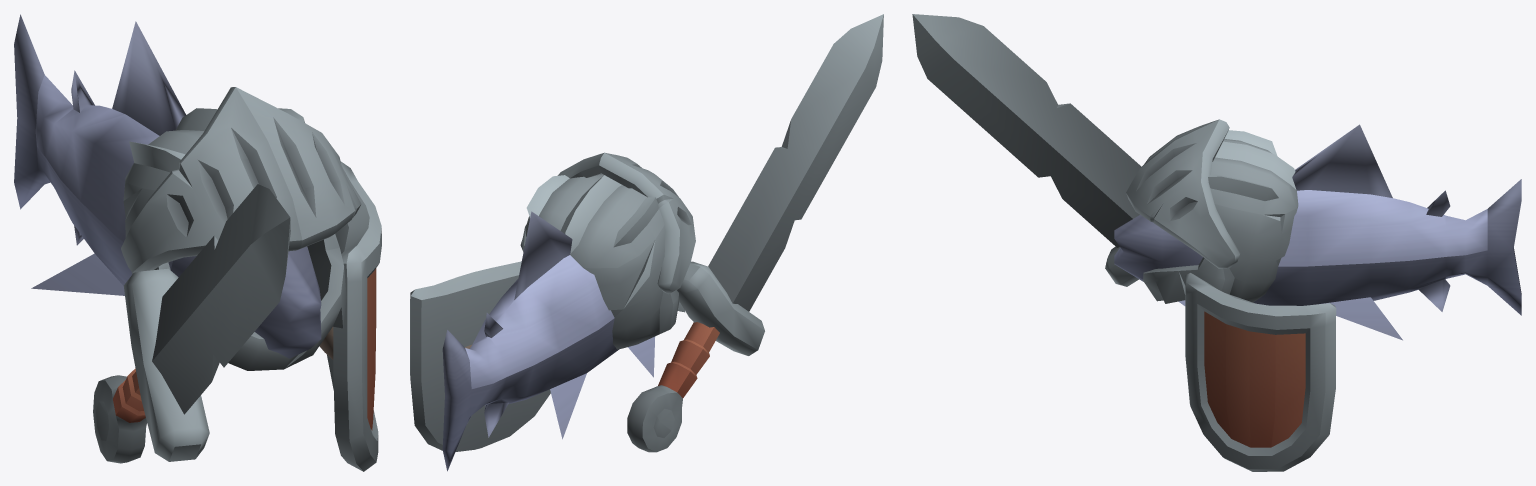
File: fish_knight.glb
The picture shows the model from 3 angles, left to right: view 1: azimuth 30°, elevation 25°; view 2: azimuth 150°, elevation 25°; view 3: azimuth 270°, elevation 25°; orthographic projection. The views are drawn at different scales.
Parts seen in each view (by area): view 1: sword_1handed, fish, Knight_HelmetVisor, shield_badge, Knight_Helmet; view 2: sword_1handed, fish, Knight_Helmet, shield_badge, Knight_HelmetVisor; view 3: fish, shield_badge, sword_1handed, Knight_Helmet, Knight_HelmetVisor.
Boxes of the visible parts, x1,y1,x2,y2 form: sword_1handed: (93,184,290,463); fish: (14,14,321,358); Knight_HelmetVisor: (121,87,361,272); shield_badge: (319,161,381,471); Knight_Helmet: (123,108,346,370); sword_1handed: (627,14,883,452); fish: (442,211,655,471); Knight_Helmet: (522,174,684,349); shield_badge: (410,261,550,451); Knight_HelmetVisor: (520,152,695,294); fish: (1114,124,1521,340); shield_badge: (1185,273,1336,471); sword_1handed: (912,14,1141,286); Knight_Helmet: (1142,130,1298,303); Knight_HelmetVisor: (1126,119,1240,268).
Size of the model in its own units: 0.4474 by 0.5886 by 0.9288.
4 materials, 4 textured.
